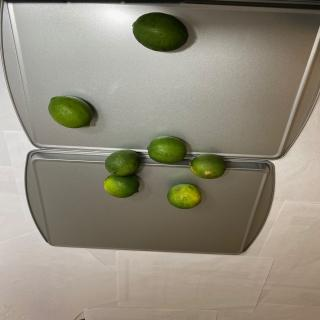Lemon: (132, 12, 188, 52), (48, 95, 93, 129), (147, 136, 187, 164), (104, 149, 140, 176), (167, 183, 202, 210), (190, 154, 227, 179), (104, 174, 140, 198)
